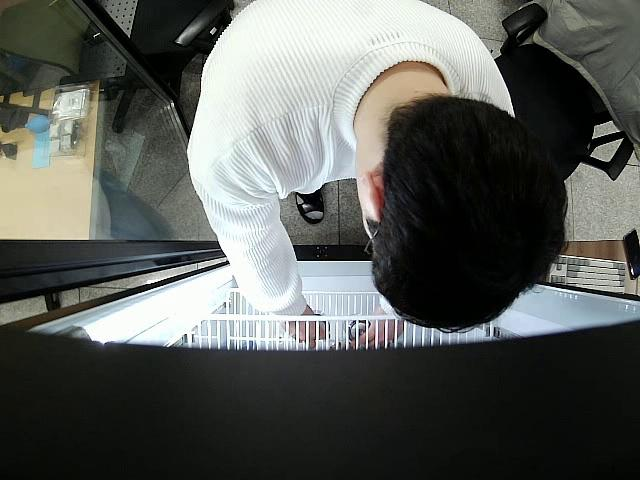00_hand: (278, 302, 327, 346), (352, 312, 405, 347)
